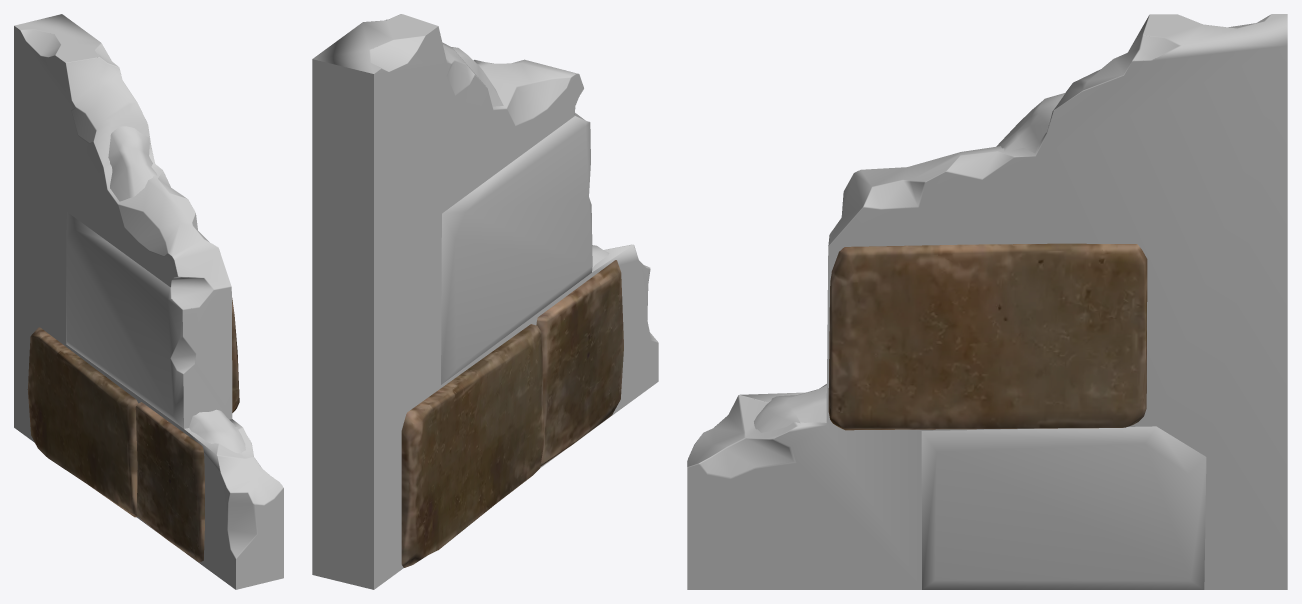
3 views of the same model, side by side, from view 1: azimuth 30°, elevation 25°; view 2: azimuth 150°, elevation 25°; view 3: azimuth 270°, elevation 25° (orthographic). The views are drawn at different scales.
Parts seen in each view (by area): view 1: SM_Vault_4x4_Dmg_Wall_01_V5_LOD0; view 2: SM_Vault_4x4_Dmg_Wall_01_V5_LOD0; view 3: SM_Vault_4x4_Dmg_Wall_01_V5_LOD0.
Boxes of the visible parts, left/top/right/bottom form: SM_Vault_4x4_Dmg_Wall_01_V5_LOD0: left=14, top=14, right=283, bottom=589; SM_Vault_4x4_Dmg_Wall_01_V5_LOD0: left=312, top=14, right=658, bottom=589; SM_Vault_4x4_Dmg_Wall_01_V5_LOD0: left=687, top=14, right=1287, bottom=589.
Bounding box in the file's own units: 0.7121 × 4 × 4.
